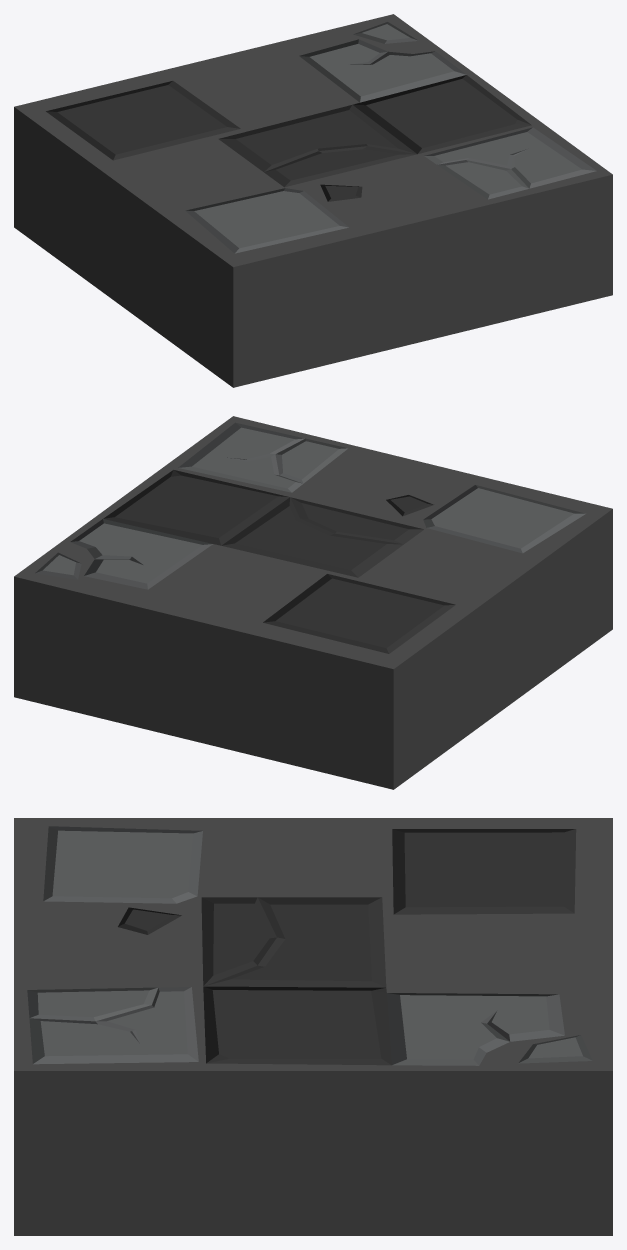
The model's file is Ground_Tiles_Large_04.FBX.
The picture shows the model from 3 angles, top to bottom: view 1: azimuth 30°, elevation 25°; view 2: azimuth 150°, elevation 25°; view 3: azimuth 270°, elevation 25°; orthographic projection. The views are drawn at different scales.
Visible parts, largest first — view 1: Ground_Tiles_Large_04; view 2: Ground_Tiles_Large_04; view 3: Ground_Tiles_Large_04.
Boxes of the visible parts, x1,y1,x2,y2 form: Ground_Tiles_Large_04: (14,14,612,387); Ground_Tiles_Large_04: (14,416,612,789); Ground_Tiles_Large_04: (14,818,612,1235).
Size of the model in its own units: 100 by 30.96 by 100.
